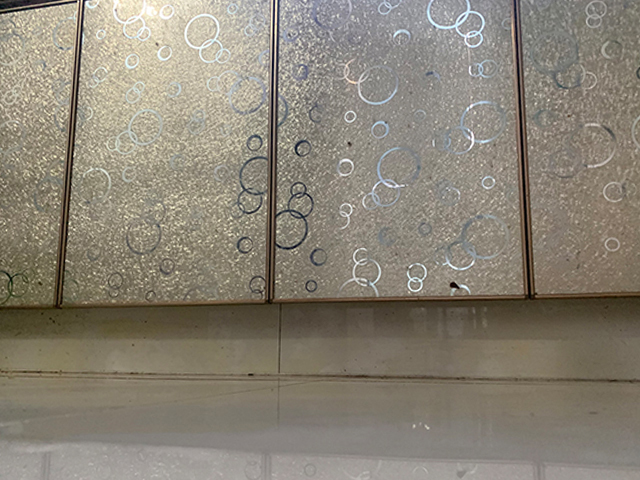cabinet: (1, 1, 640, 384)
